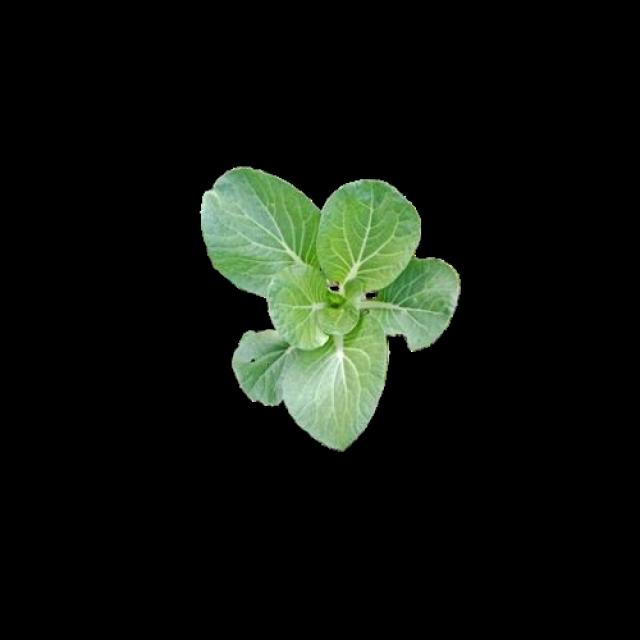healthy: (201, 167, 458, 446)
not-mature: (203, 169, 461, 448)
